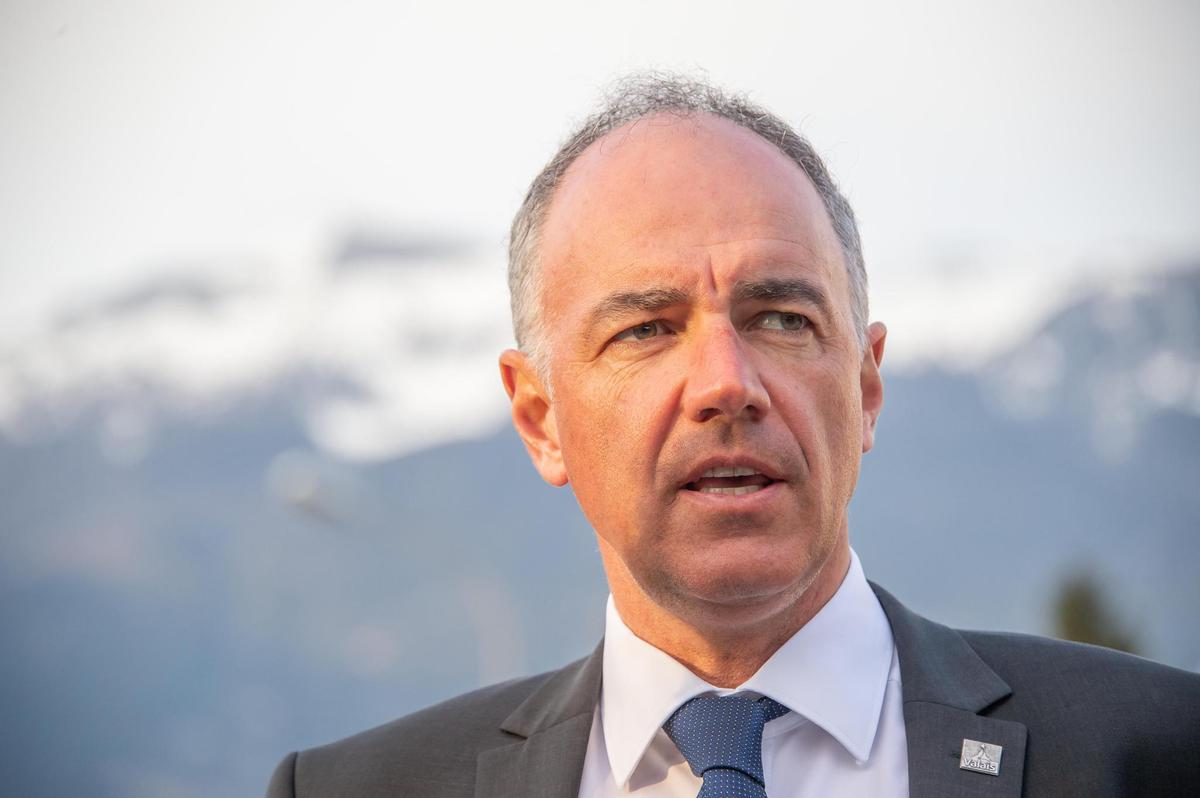without_mask: (544, 159, 868, 616)
